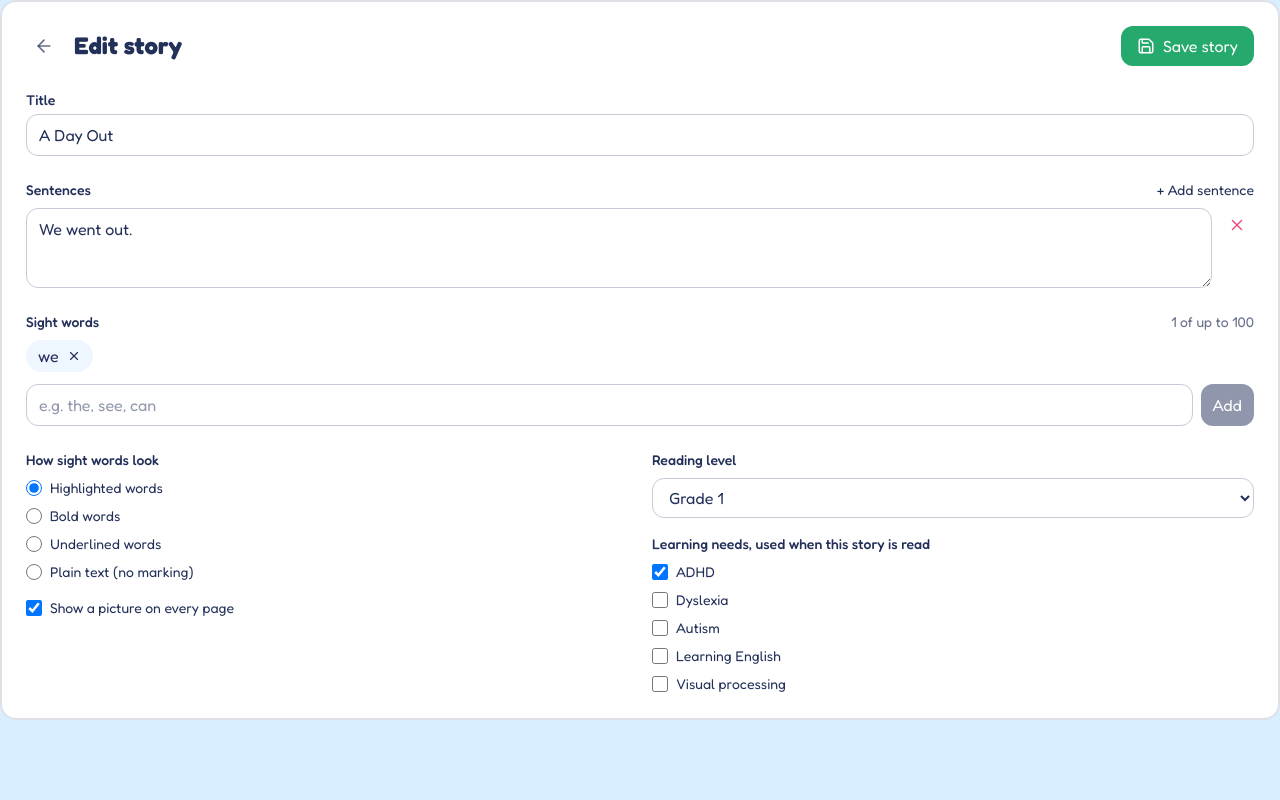
Scenario: StoryEditor › names its icon buttons and cleans added words
In the field named "Words to add": [609, 405] box [26, 384, 1193, 426], type "See, don’t"
Then press Enter
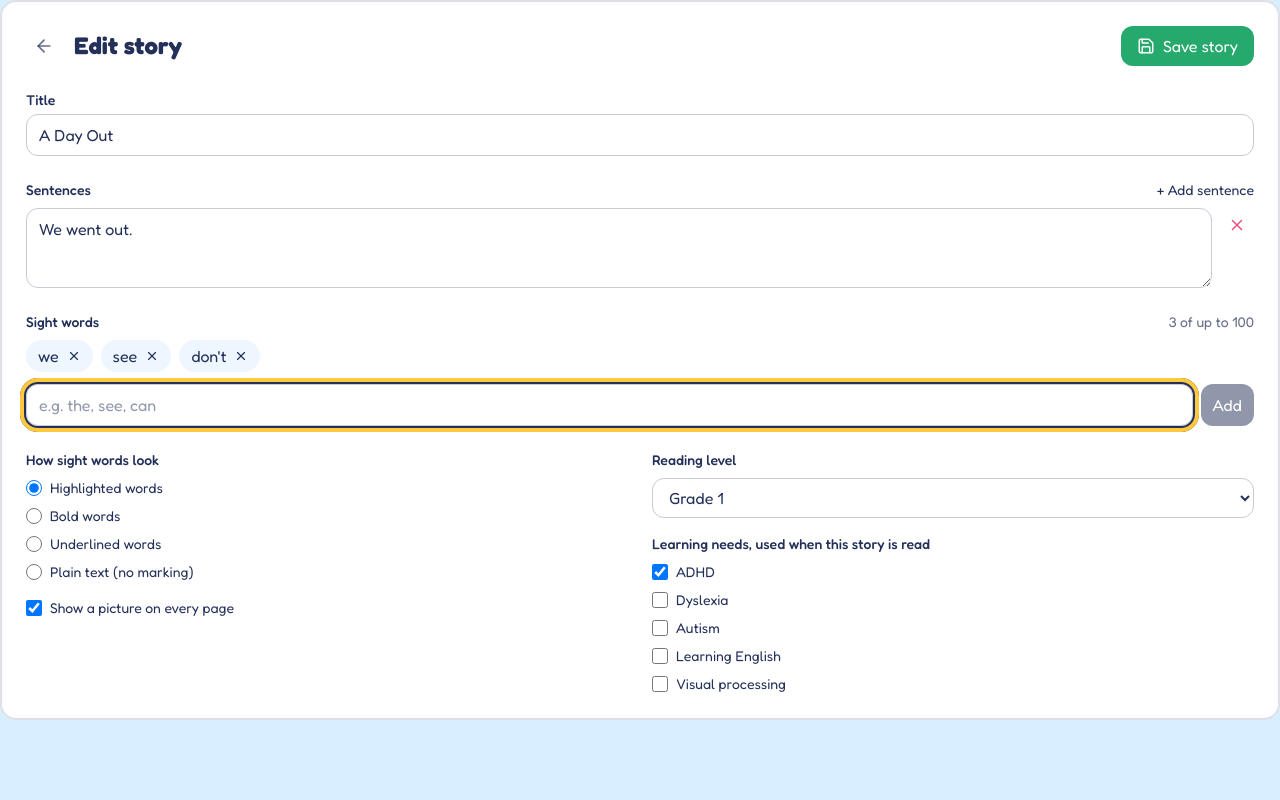
Expected: the button named "Remove sentence 1" is shown, [1220, 208, 1254, 242]
Now the button named "Remove see" is shown, box [145, 349, 159, 363]
Now the button named "Remove don't" is shown, box [234, 349, 248, 363]
